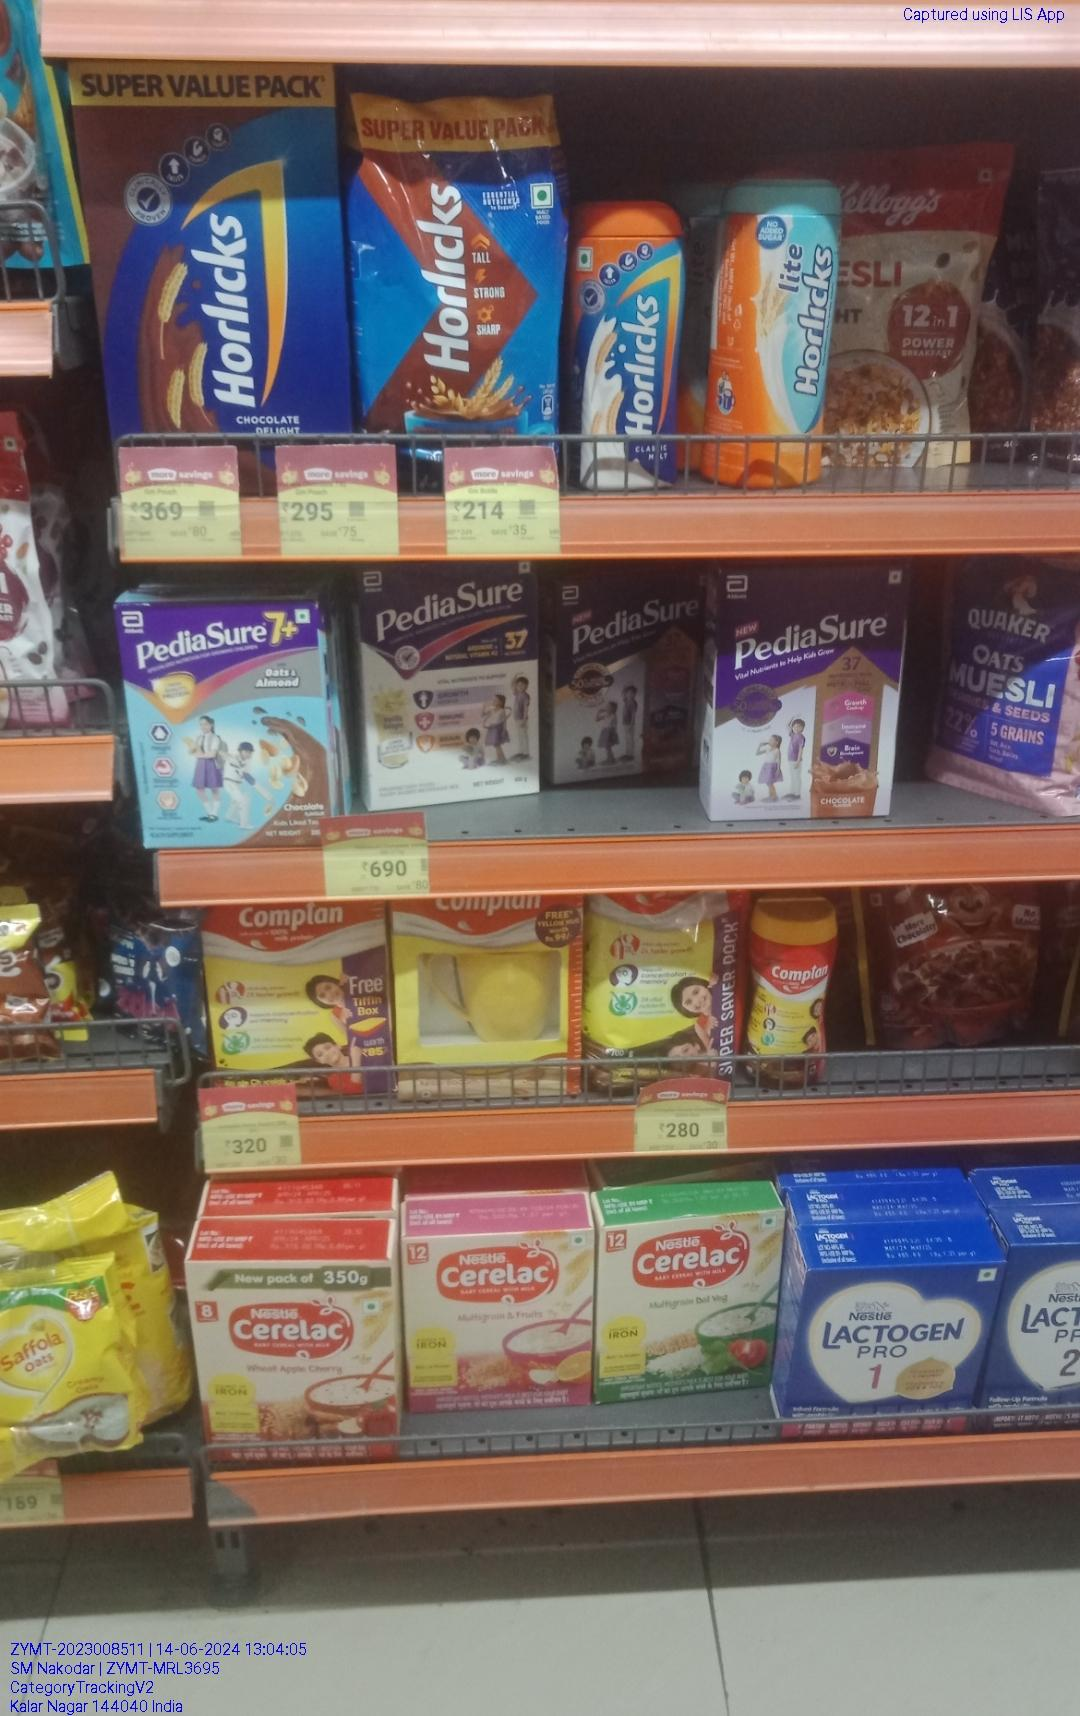COMPLAN_CHOCOLATE_200_GMS_JAR: (749, 905, 826, 1089)
COMPLAN_CHOCOLATE_200_GMS_PACK: (200, 903, 393, 1083)
COMPLAN_RC_POUCH_700_GMS_12: (589, 891, 737, 1094)
HORLICKS_LITE_REGULAR_MALT_500_GM_JAR: (717, 182, 842, 484)
HORLICK_CHOCOLATE_1_KG_PACK: (91, 65, 345, 433)
HORLICK_CLASSIC_MALT_500_G_JAR: (570, 198, 679, 490)
PEDIASURE_7_PLUS_CHOCOLATE_400_G_PACK: (121, 595, 330, 845)
PEDIASURE_CHOCOLATE_500_G_PACK: (718, 564, 901, 818)
